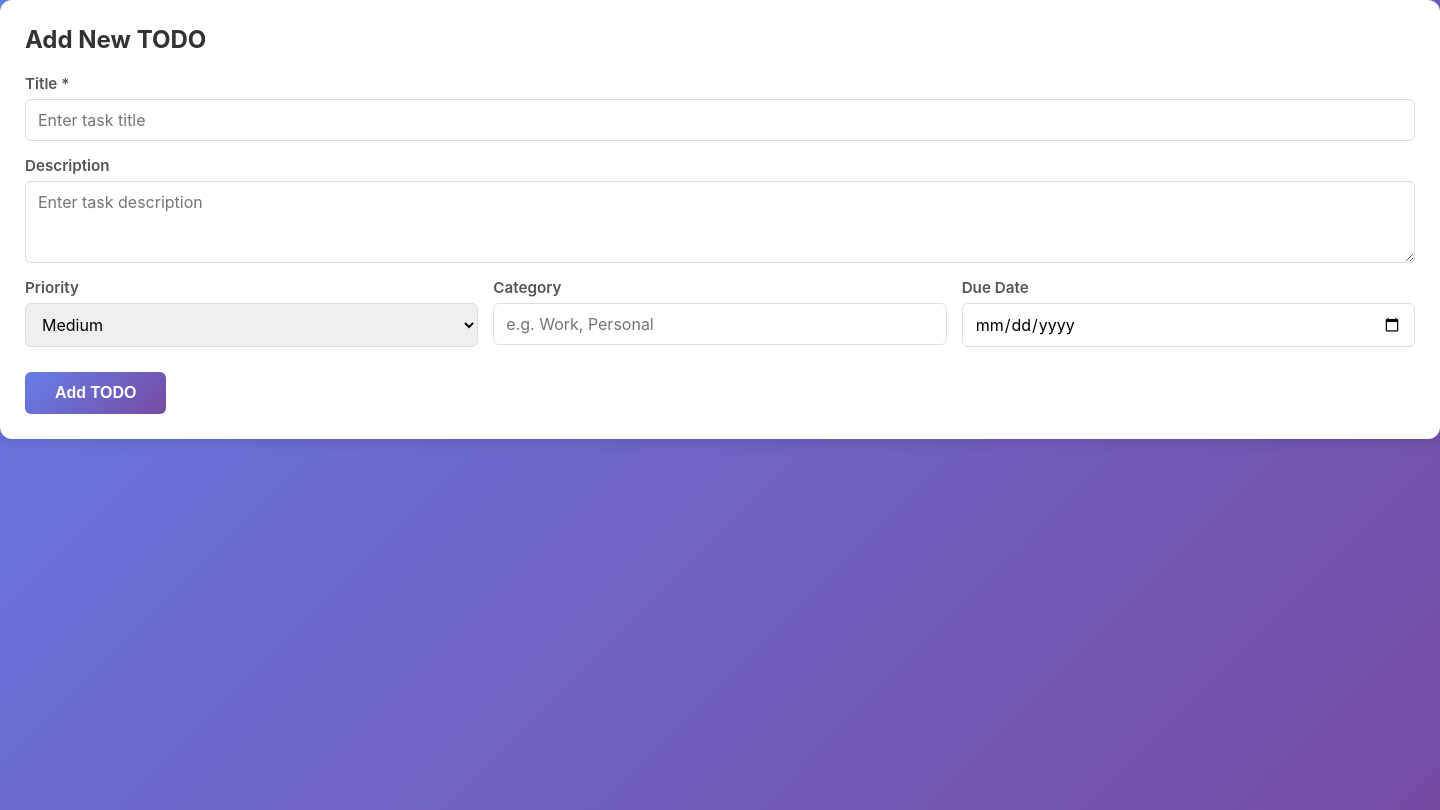
Test: TodoForm › resets all fields to defaults after successful submission
Type "Task" into the field labelled "Title *".
click(720, 120); type("Task")  # box [25,99,1415,141]
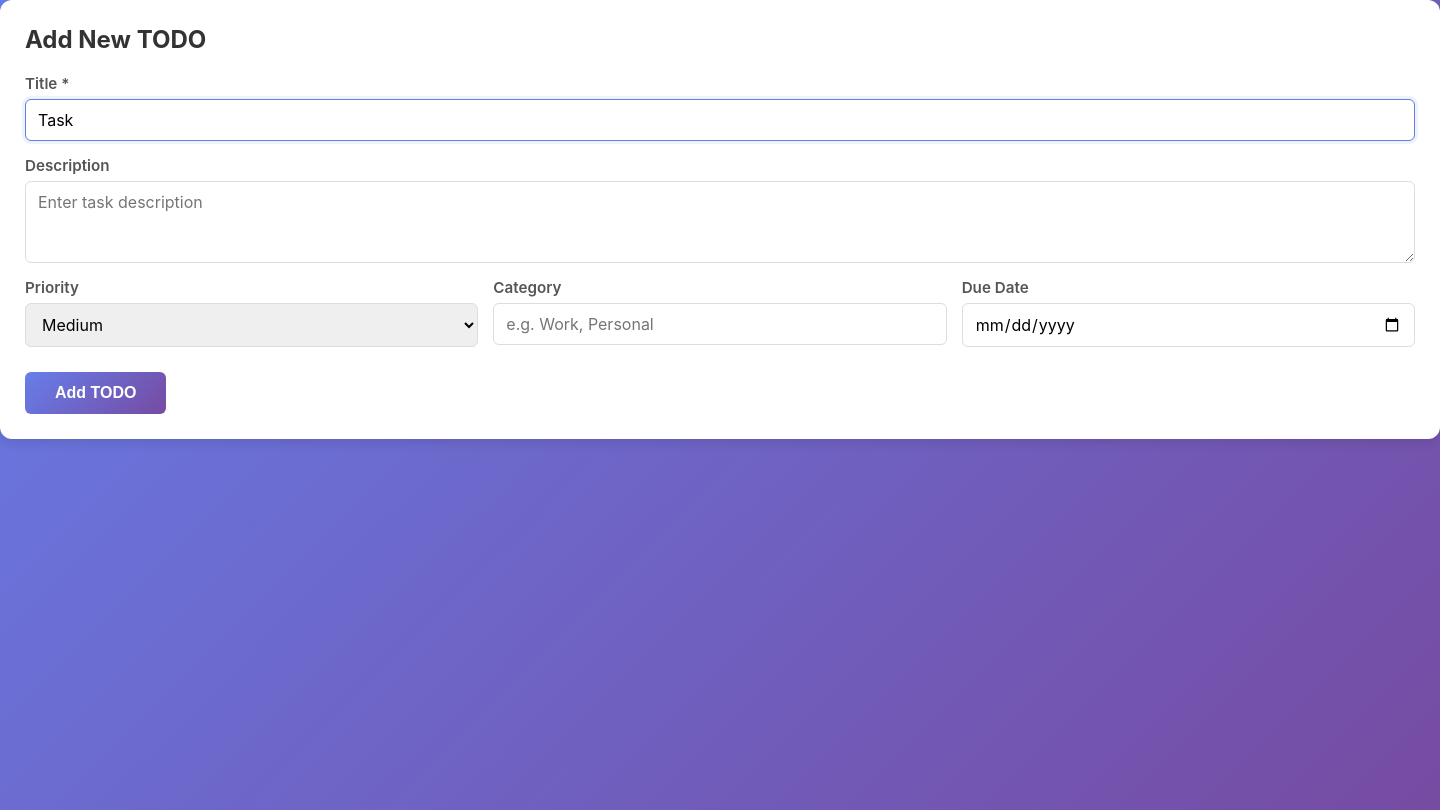
Type "Desc" into the text box labelled "Description".
click(720, 222); type("Desc")  # box [25,181,1415,263]
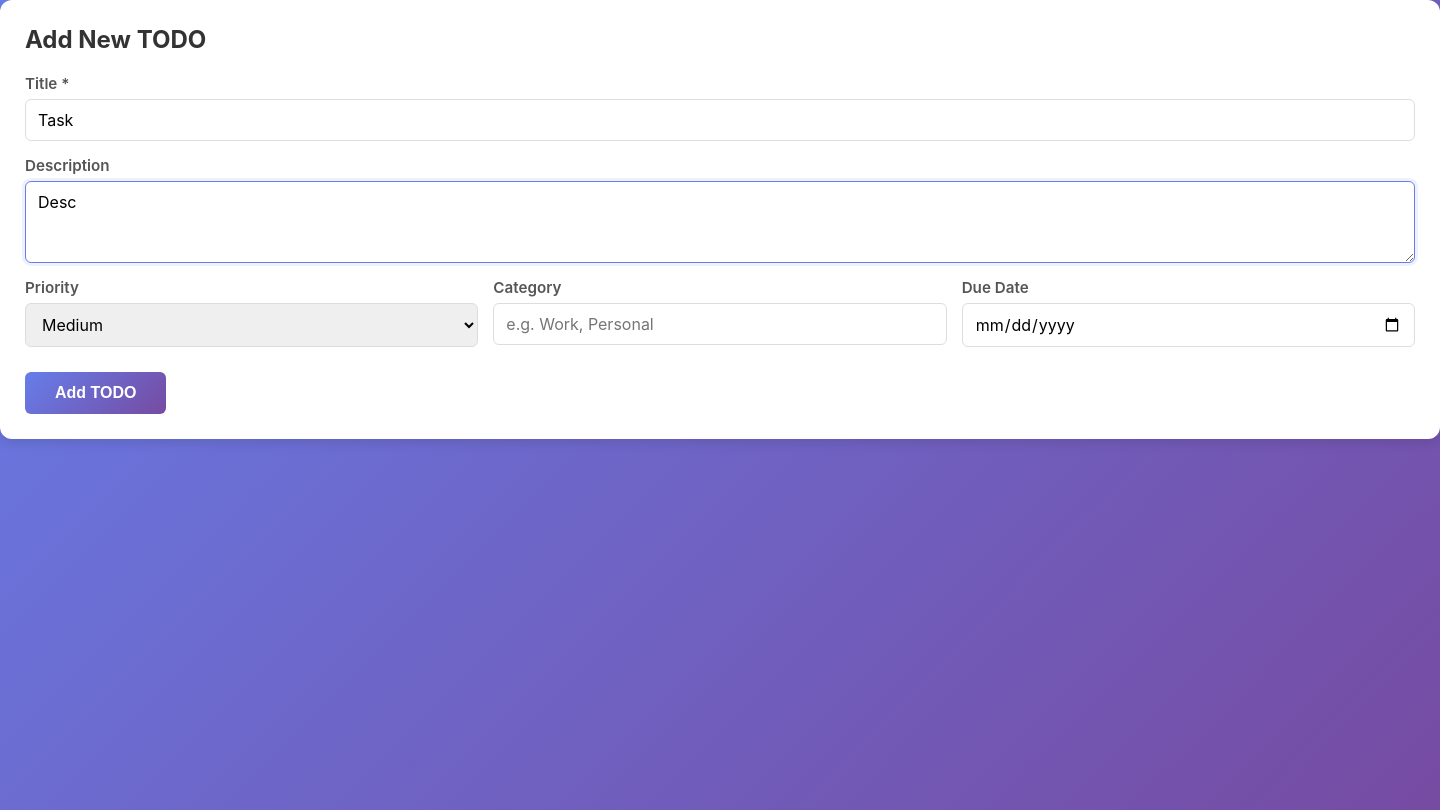
Select "High" in the dropdown labelled "Priority" at (252, 325), box [25,303,478,347]
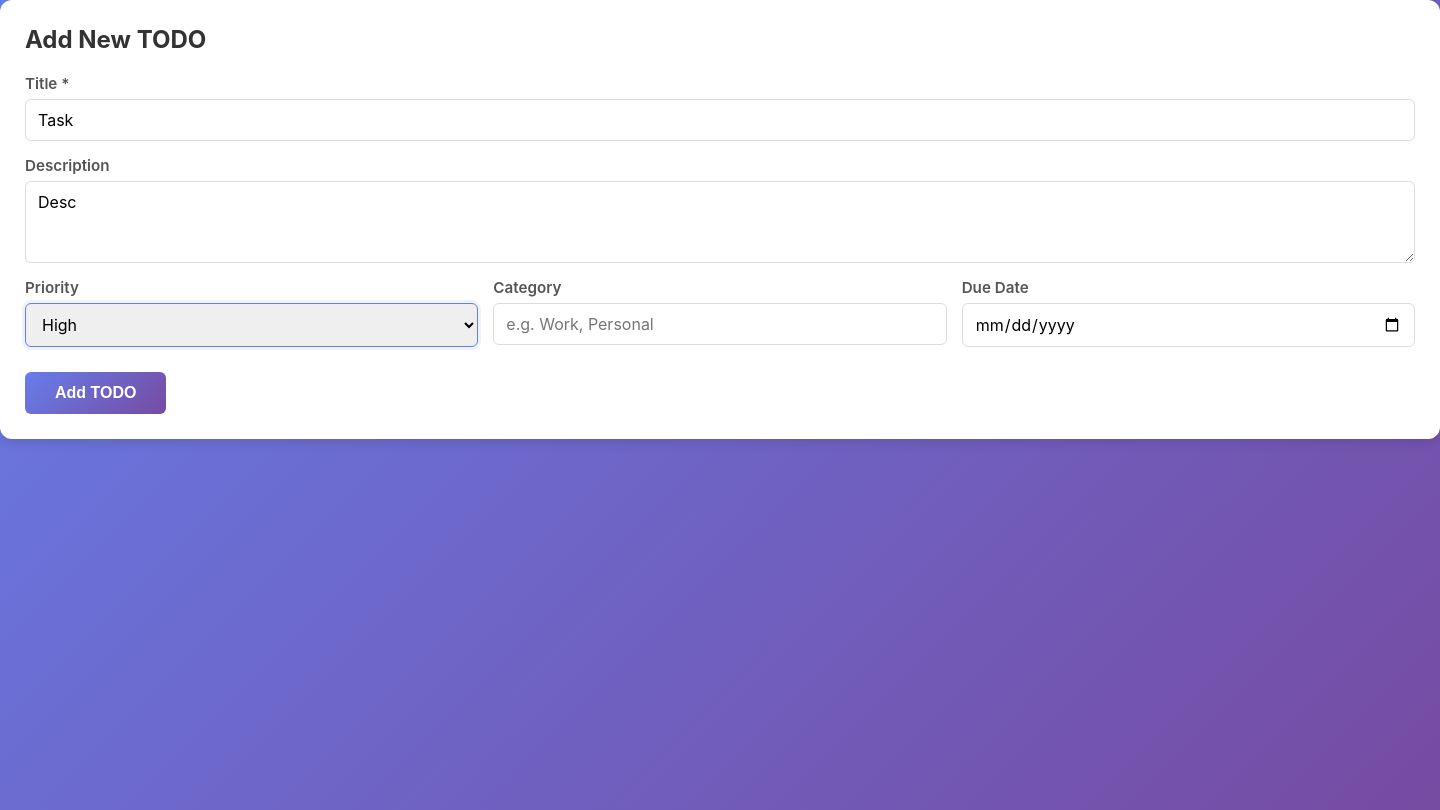
Type "Work" into the field labelled "Category".
click(720, 324); type("Work")  # box [493,303,947,345]
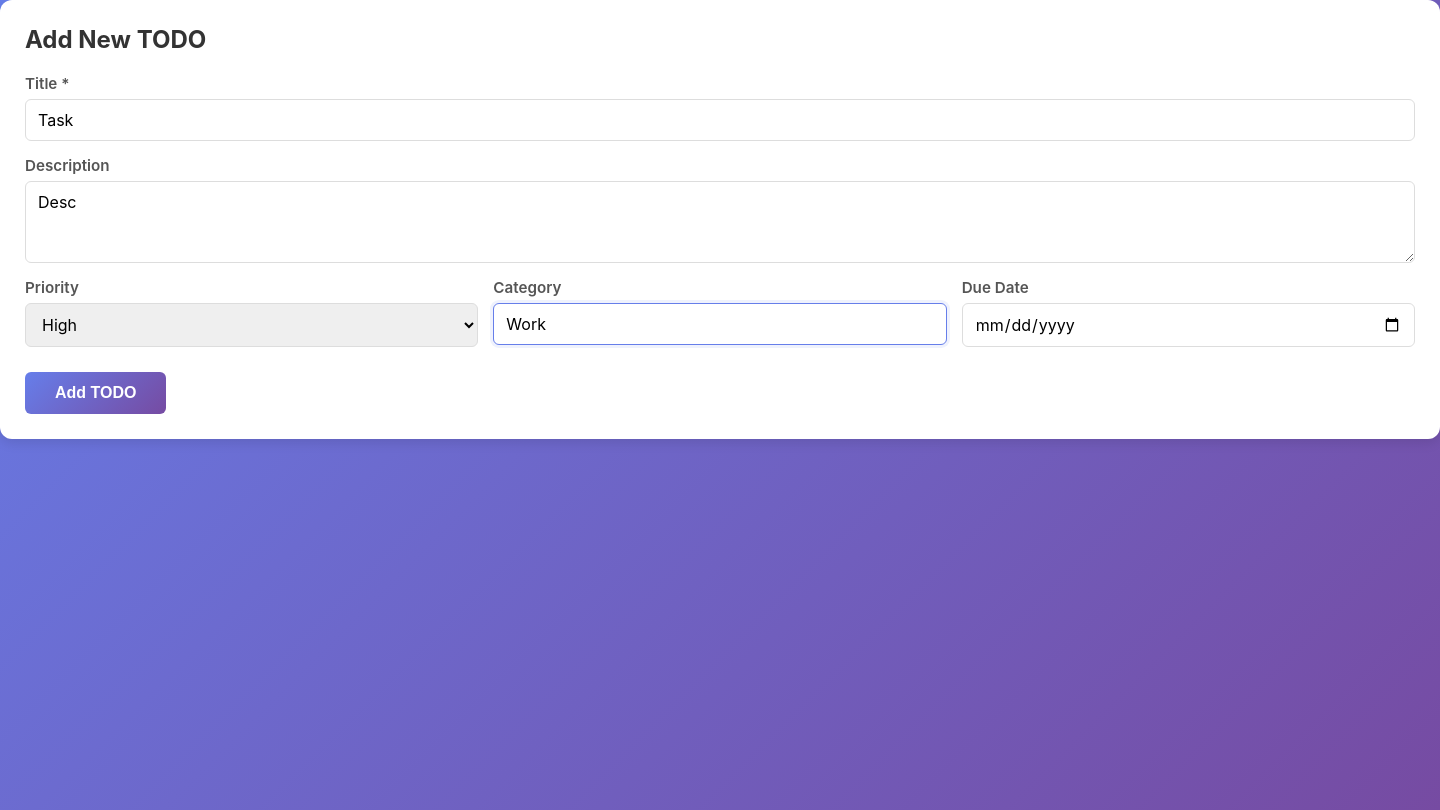
Click the button "Add TODO".
click(96, 393)  # box [25,372,166,414]
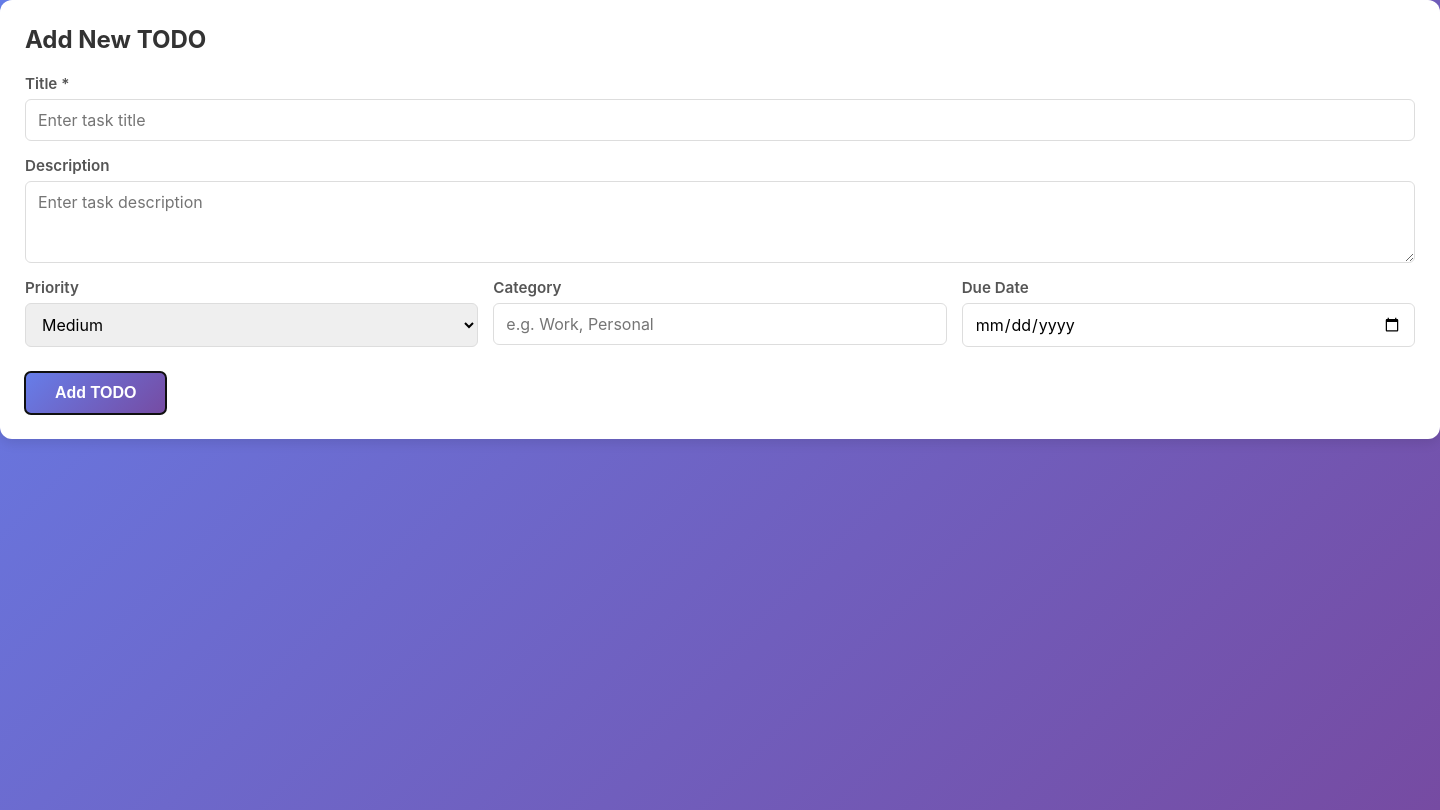
expect the field labelled "Title *" is empty: met, box [25,99,1415,141]
expect the text box labelled "Description" is empty: met, box [25,181,1415,263]
expect the field labelled "Category" is empty: met, box [493,303,947,345]
